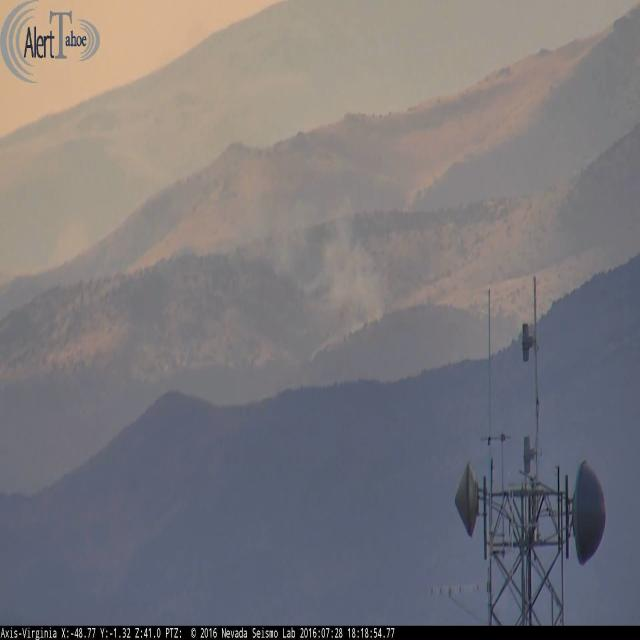smoke: (281, 213, 400, 349)
